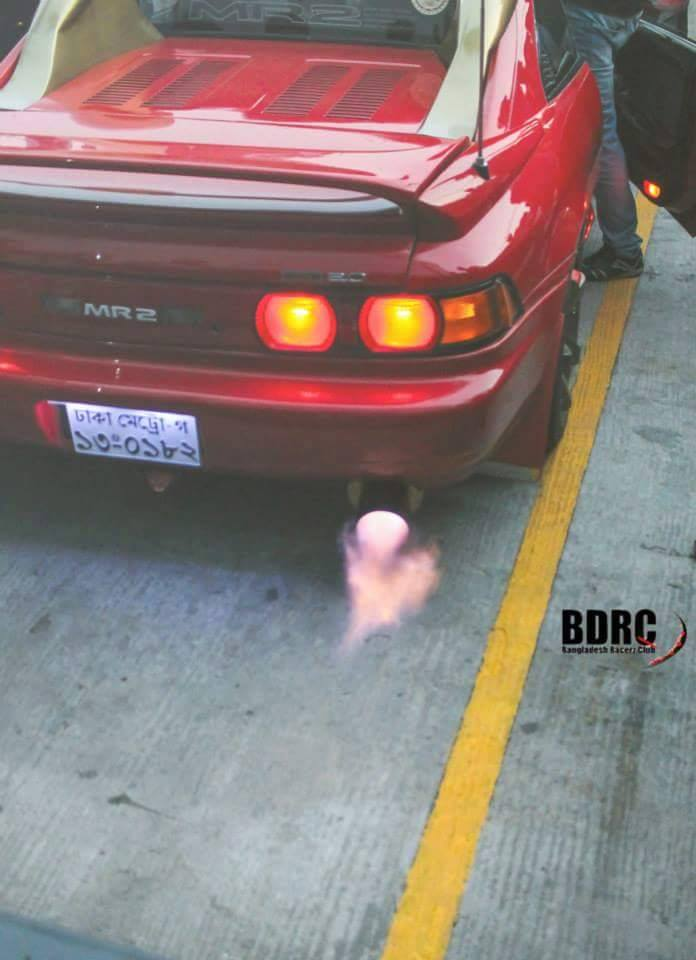registration_plate: (64, 401, 201, 468)
